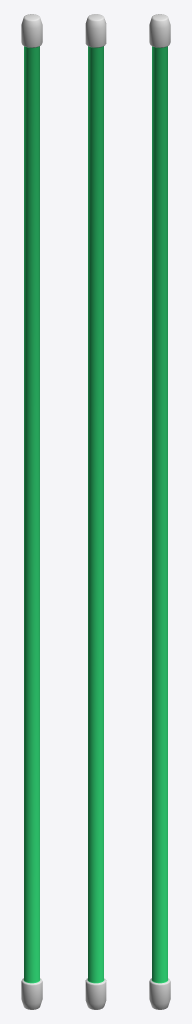
Rendered from Neon_003.fbx.
The picture shows the model from 3 angles, left to right: view 1: azimuth 90°, elevation 25°; view 2: azimuth 150°, elevation 25°; view 3: azimuth 270°, elevation 25°; orthographic projection.
Parts seen in each view (by area): view 1: Neon_003; view 2: Neon_003; view 3: Neon_003.
Boxes of the visible parts, left/top/right/bottom form: Neon_003: left=21, top=14, right=42, bottom=1009; Neon_003: left=85, top=14, right=106, bottom=1009; Neon_003: left=149, top=14, right=170, bottom=1009.
Bounding box in the file's own units: 0.0391 × 2.03 × 0.0391.
